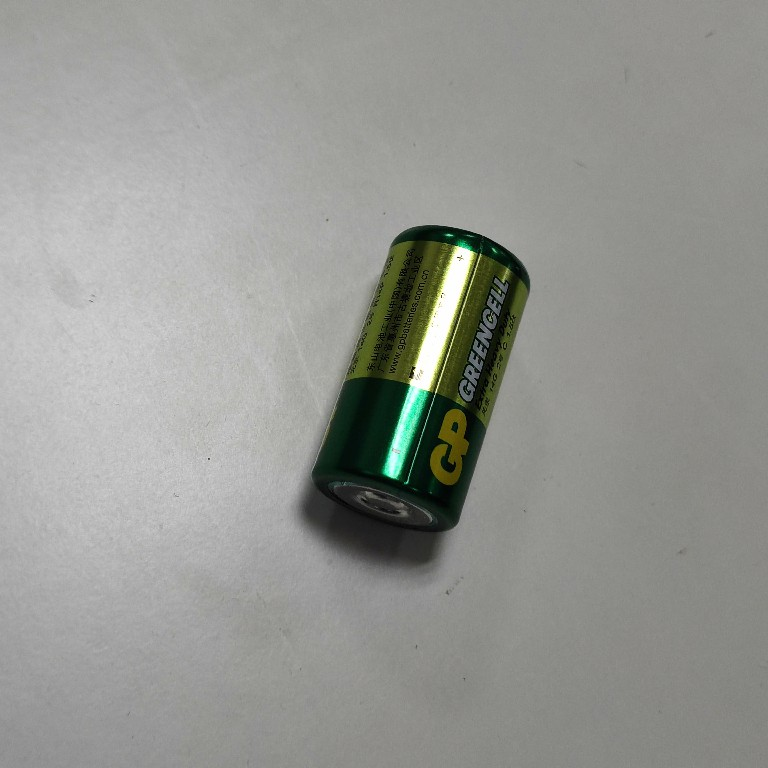charge: (303, 217, 535, 537)
